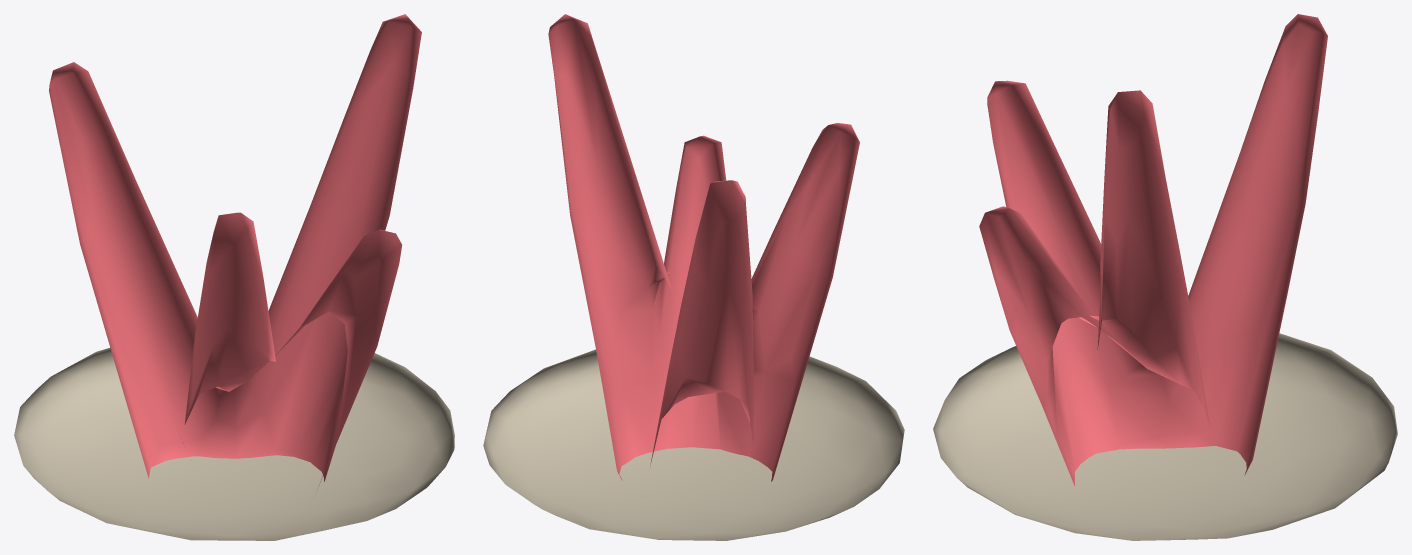
The model's file is lm_coral.glb.
The picture shows the model from 3 angles, left to right: view 1: azimuth 30°, elevation 25°; view 2: azimuth 150°, elevation 25°; view 3: azimuth 270°, elevation 25°; orthographic projection. The views are drawn at different scales.
Parts seen in each view (by area): view 1: body; view 2: body; view 3: body.
Part boxes in pixels (x1,y1,x2,y2): body: (14, 14, 454, 540); body: (483, 14, 904, 540); body: (933, 14, 1397, 540).
Size of the model in its own units: 1.59 by 1.91 by 1.6.
1 material, 1 textured.
